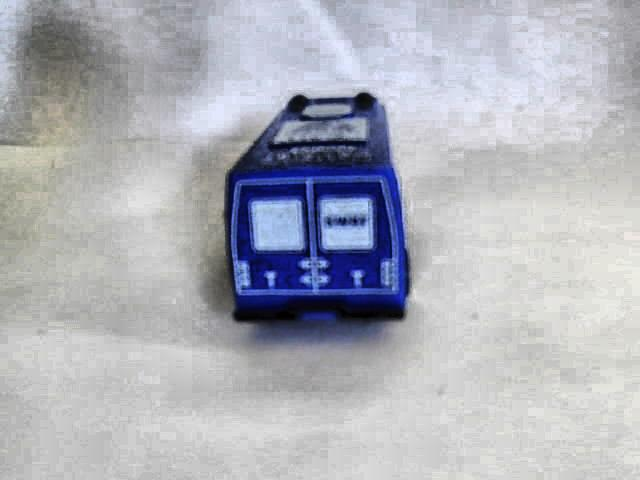police car: (223, 93, 416, 330)
